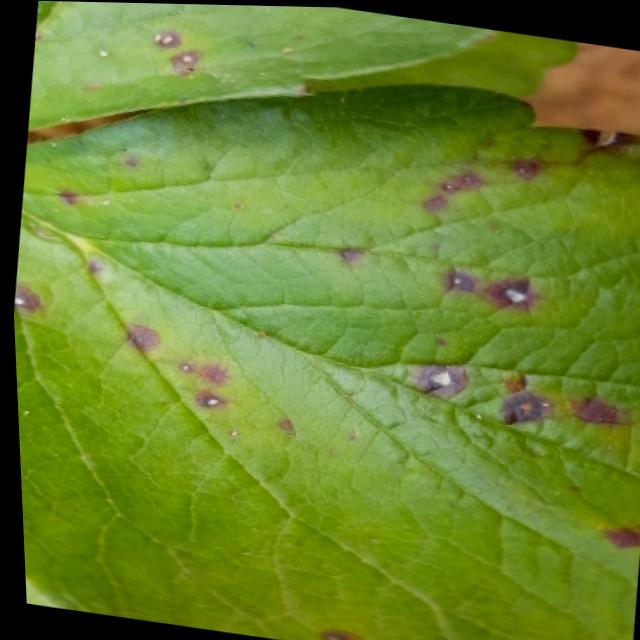Leaf Spot: (10, 78, 640, 640), (26, 1, 496, 130)
